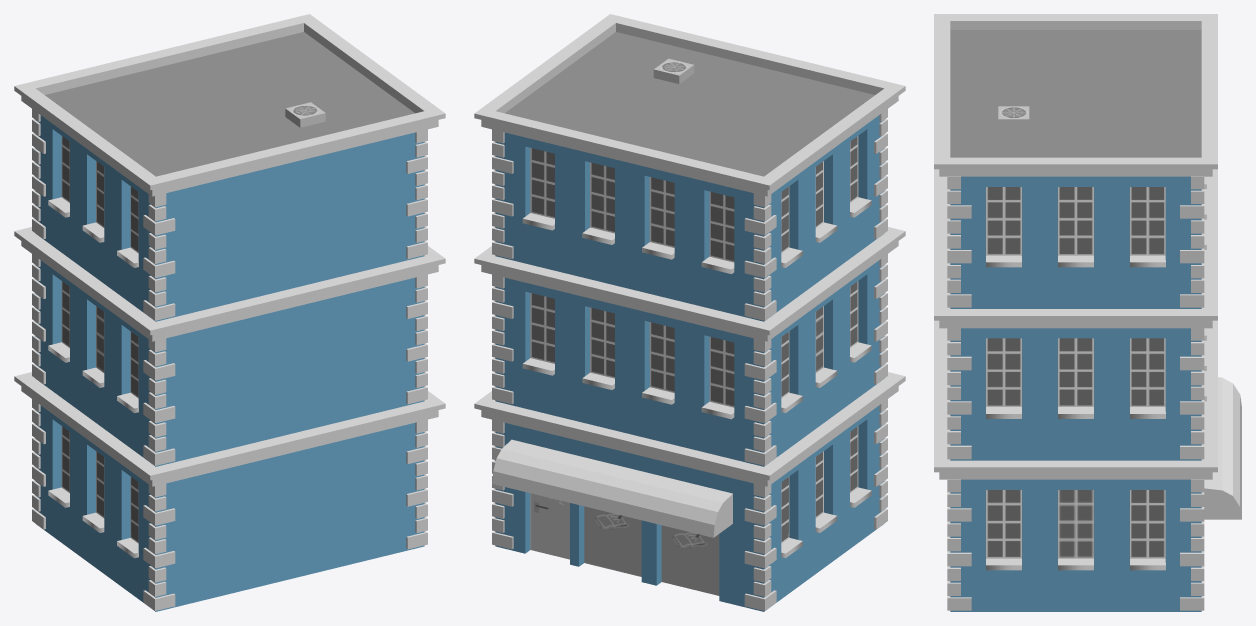
Rendered from apartments2.obj.
3 renders of one model, left to right at view 1: azimuth 30°, elevation 25°; view 2: azimuth 150°, elevation 25°; view 3: azimuth 270°, elevation 25°, orthographic. The views are drawn at different scales.
Parts seen in each view (by area): view 1: apartments2.000_Plane.002; view 2: apartments2.000_Plane.002; view 3: apartments2.000_Plane.002.
Part boxes in pixels (x1,y1,x2,y2): apartments2.000_Plane.002: (14,14,445,611); apartments2.000_Plane.002: (474,14,905,611); apartments2.000_Plane.002: (934,14,1241,611).
Size of the model in its own units: 6.6 by 9.3 by 5.71.
